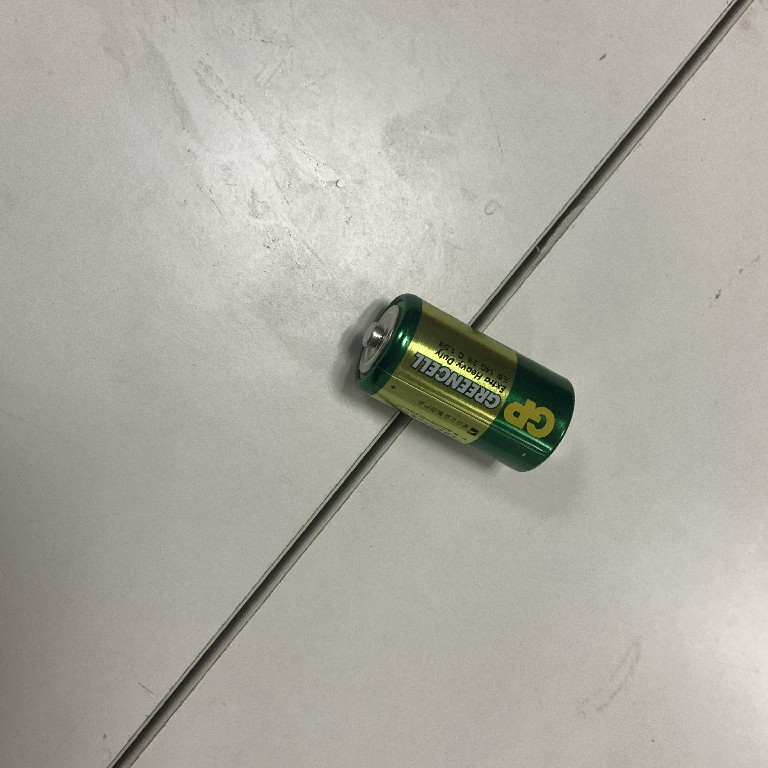charge: (352, 292, 578, 478)
